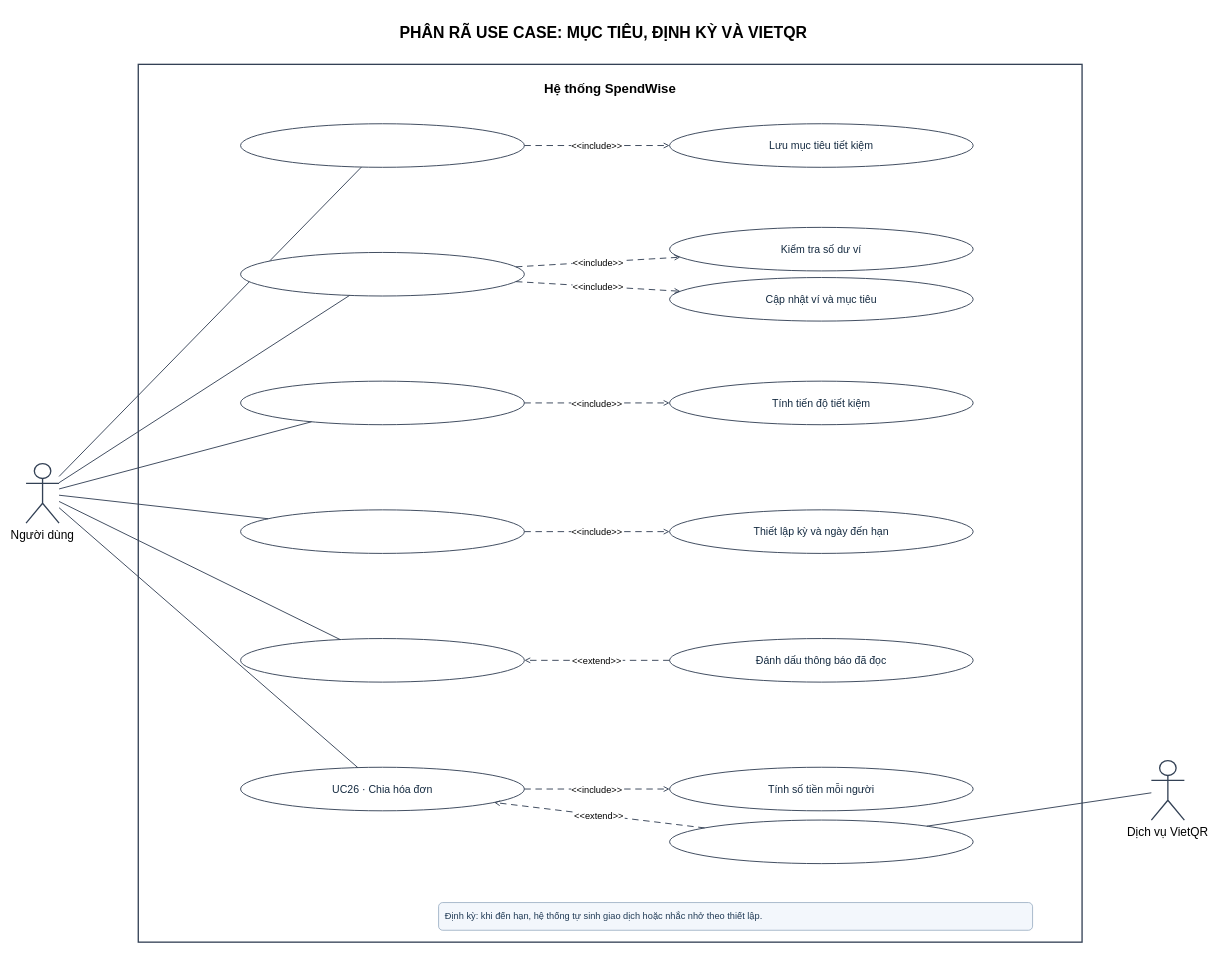
The diagram is 1220 pixels wide and 954 high, and some of its shapes have lost their labels. Each missing label, with the centre of its shape:
"Tạo mã VietQR" goes at (x=821, y=841).
"UC22 · Tạo mục tiêu tiết kiệm" goes at (x=382, y=145).
"UC23 · Nạp tiền vào mục tiêu" goes at (x=382, y=274).
"UC24 · Tạo giao dịch định kỳ" goes at (x=382, y=531).
"UC25 · Xem thông báo" goes at (x=382, y=660).
"Xem tiến độ mục tiêu" goes at (x=382, y=402).
